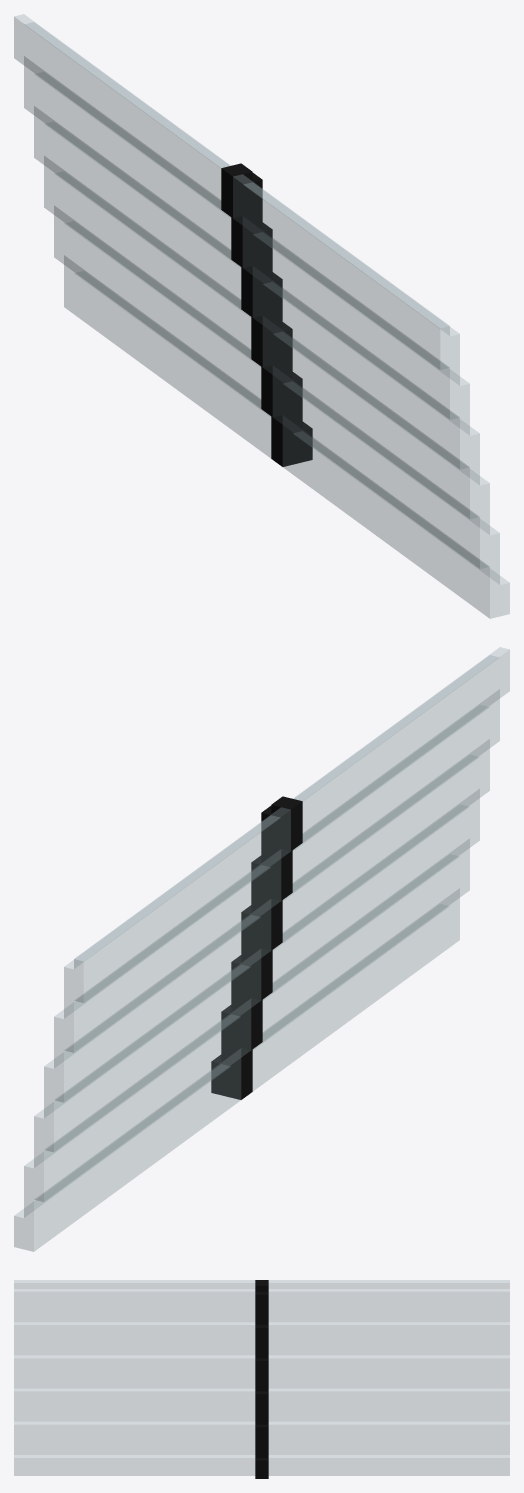
Rendered from school_bus_windscreen.glb.
The picture shows the model from 3 angles, top to bottom: view 1: azimuth 30°, elevation 25°; view 2: azimuth 150°, elevation 25°; view 3: azimuth 270°, elevation 25°; orthographic projection. The views are drawn at different scales.
Visible parts, largest first — view 1: body:compound; view 2: body:compound; view 3: body:compound.
Part boxes in pixels (x1,y1,x2,y2): body:compound: (14,14,509,618); body:compound: (14,647,509,1251); body:compound: (14,1280,509,1478).
Bounding box in the file's own units: 0.25 × 0.9062 × 2.31.
